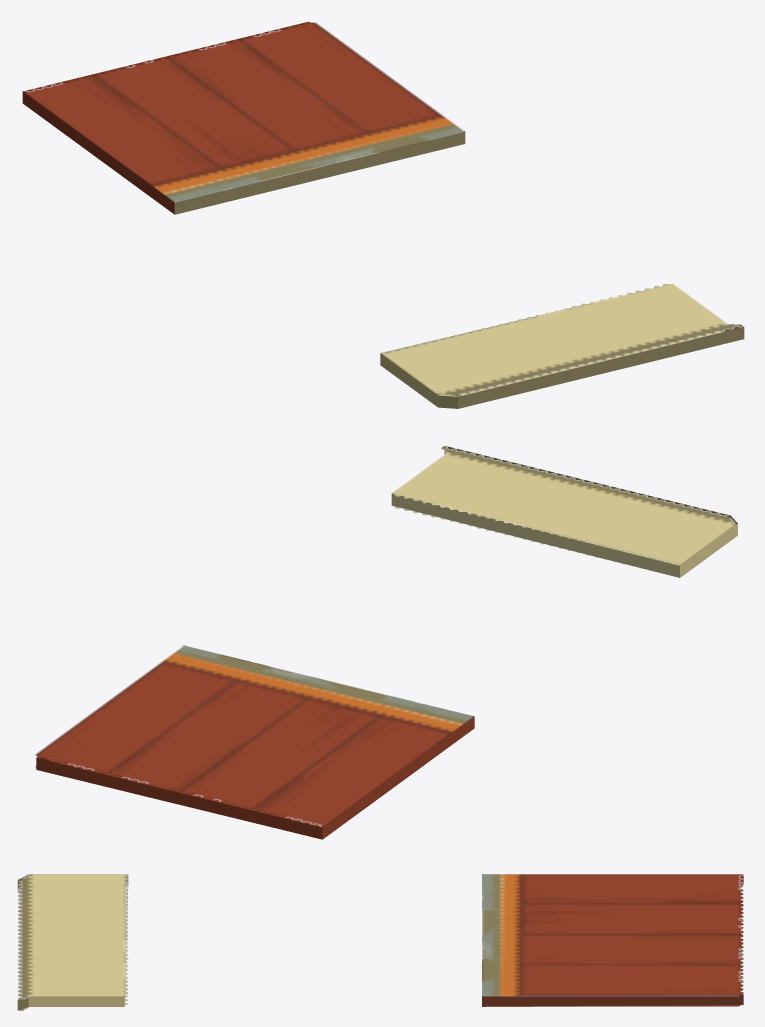
File: pz_native_location_restaurant_spiffos_01_36_frame.obj
3 renders of one model, top to bottom at view 1: azimuth 30°, elevation 25°; view 2: azimuth 150°, elevation 25°; view 3: azimuth 270°, elevation 25°, orthographic. The views are drawn at different scales.
Parts seen in each view (by area): view 1: pz_native_location_restaurant_spiffos_01_36_frame; view 2: pz_native_location_restaurant_spiffos_01_36_frame; view 3: pz_native_location_restaurant_spiffos_01_36_frame.
Part boxes in pixels (x1,y1,x2,y2): pz_native_location_restaurant_spiffos_01_36_frame: [22, 21, 744, 408]; pz_native_location_restaurant_spiffos_01_36_frame: [35, 446, 737, 839]; pz_native_location_restaurant_spiffos_01_36_frame: [17, 874, 743, 1010].
Bounding box in the file's own units: 1.06 × 0.04 × 2.55.
Materials: 1 (1 with a texture image).
